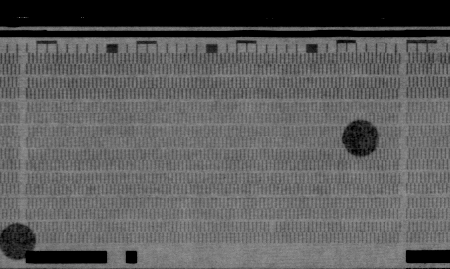Broken hole: (267, 219, 279, 233), (432, 53, 444, 65)
